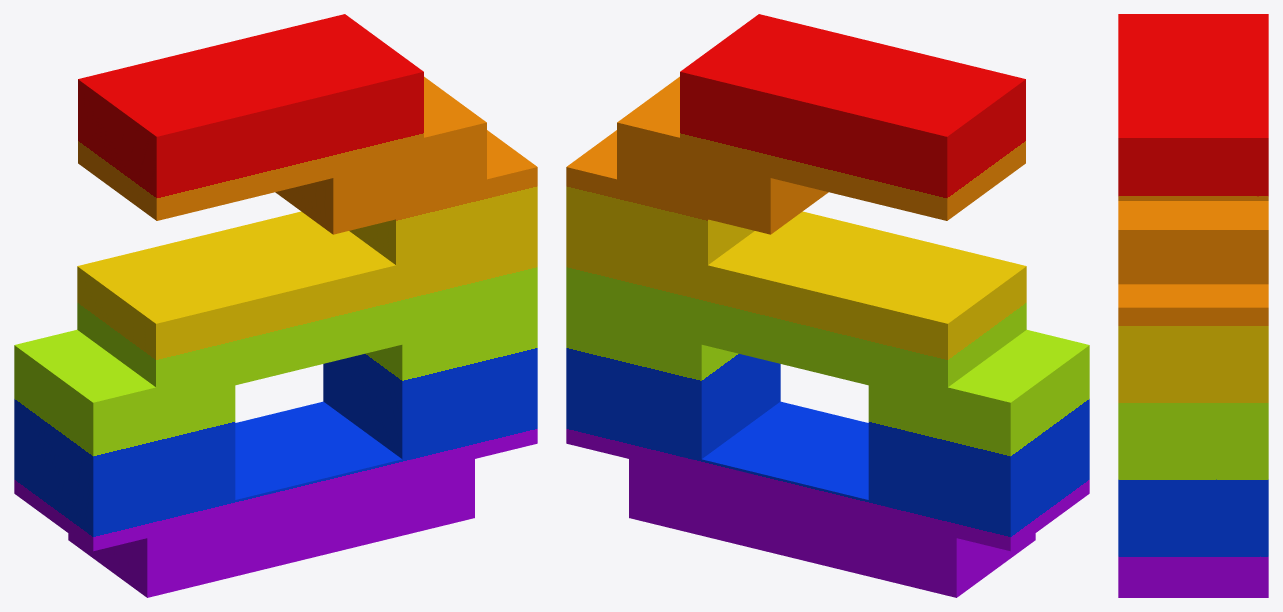
Rendered from Number_06.fbx.
The picture shows the model from 3 angles, left to right: view 1: azimuth 30°, elevation 25°; view 2: azimuth 150°, elevation 25°; view 3: azimuth 270°, elevation 25°; orthographic projection. The views are drawn at different scales.
Parts seen in each view (by area): view 1: Number_06; view 2: Number_06; view 3: Number_06.
Boxes of the visible parts, box(x1,y1,x2,y2) form: Number_06: box(14, 14, 537, 597); Number_06: box(566, 14, 1089, 597); Number_06: box(1118, 14, 1268, 597).
Size of the model in its own units: 79.07 by 77.97 by 24.3.
